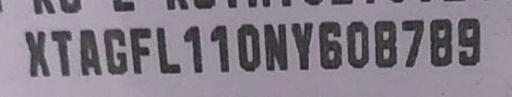letter: (454, 17, 486, 70), (258, 25, 290, 78), (316, 17, 344, 74), (425, 17, 455, 70), (72, 27, 102, 80), (342, 17, 370, 72), (370, 19, 398, 74), (154, 27, 184, 78), (399, 17, 425, 72), (234, 22, 260, 77), (100, 27, 128, 78), (182, 27, 210, 78), (290, 21, 316, 74), (24, 26, 52, 75), (126, 24, 152, 75), (208, 23, 232, 76), (51, 27, 73, 78)
